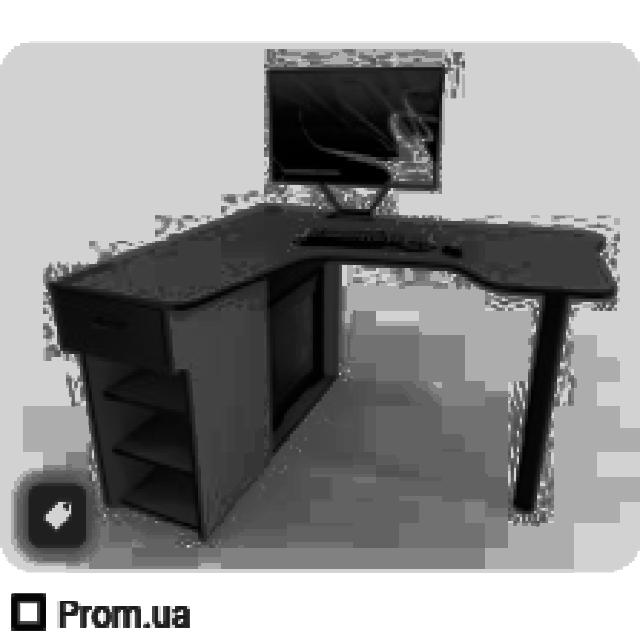table: (46, 200, 614, 538)
